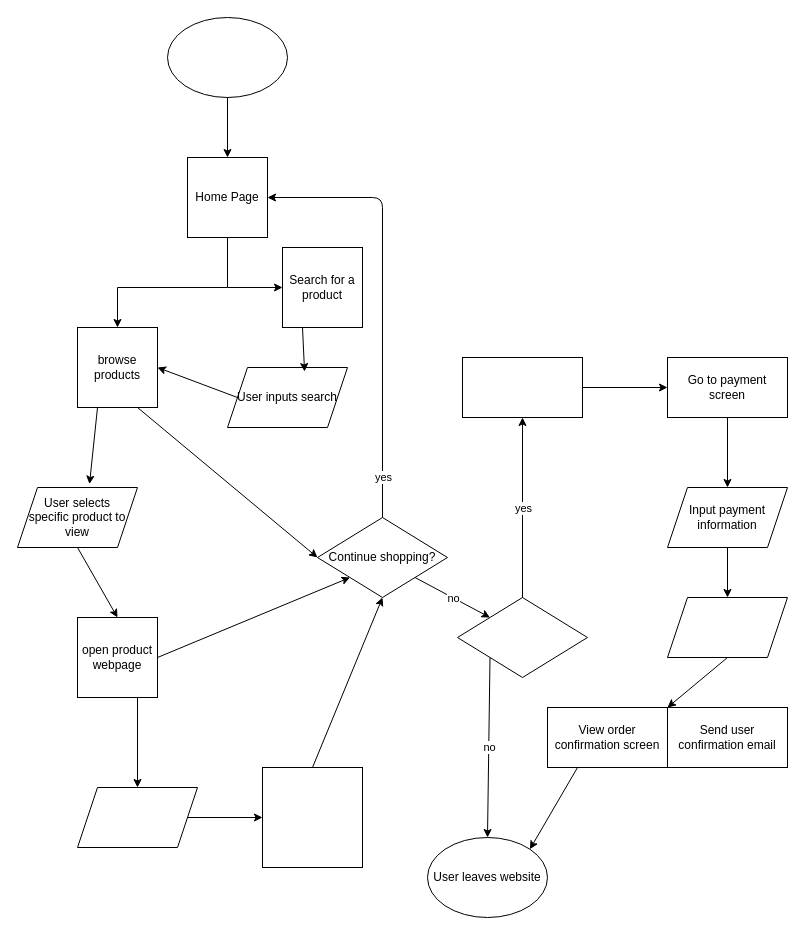
The diagram is 805 pixels wide and 935 high, and some of its shapes have lost their labels. Each missing label, with the centre of its shape:
"Add to cart" goes at [137,817].
"Checkout?" goes at [522,637].
"Place order" goes at [727,627].
"User recieves confirmation that item was added to cart" goes at [312,817].
"User visits website" goes at [227,57].
"View cart screen" goes at [522,387].
